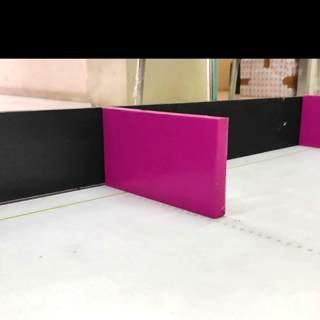xparking: (112, 117, 224, 206)
